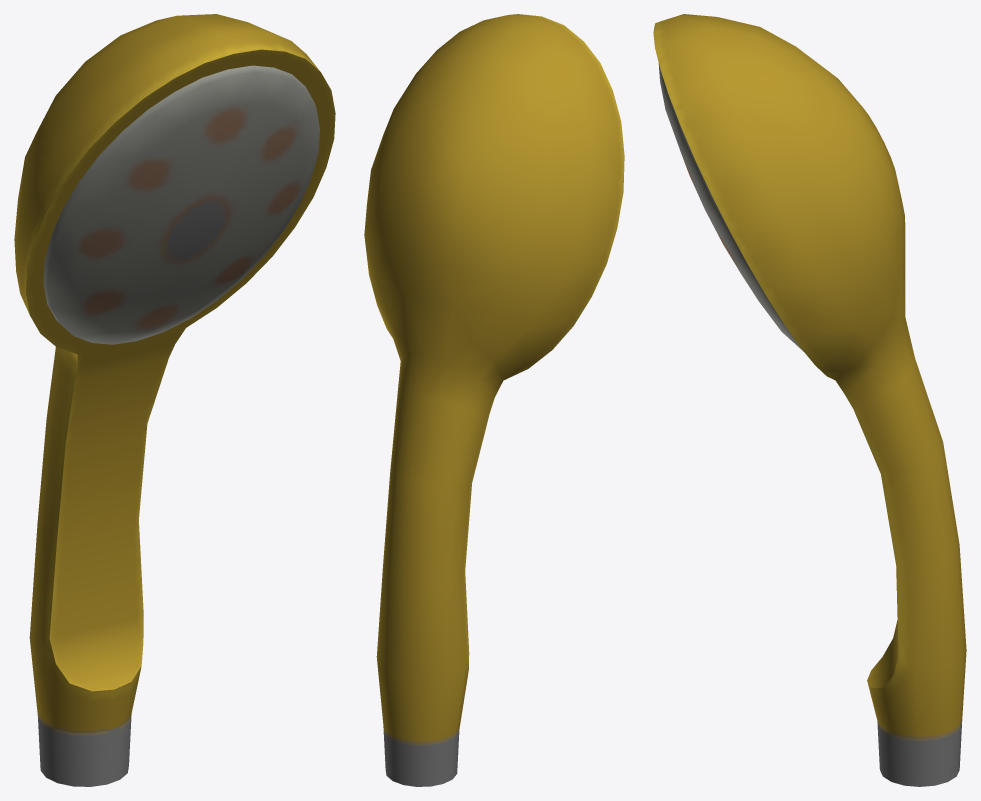
The model's file is pi_showerhead01.gltf.
3 renders of one model, left to right at view 1: azimuth 30°, elevation 25°; view 2: azimuth 150°, elevation 25°; view 3: azimuth 270°, elevation 25°, orthographic. The views are drawn at different scales.
Parts seen in each view (by area): view 1: showerhead_shape:pi_showerhead01_1; view 2: showerhead_shape:pi_showerhead01_1; view 3: showerhead_shape:pi_showerhead01_1.
Part boxes in pixels (<box>): showerhead_shape:pi_showerhead01_1: <box>14,14,335,786</box>; showerhead_shape:pi_showerhead01_1: <box>364,14,624,786</box>; showerhead_shape:pi_showerhead01_1: <box>653,14,966,786</box>.
Size of what is drawn, in the model's own units: 0.1424 by 0.3884 by 0.148.
Materials: 1 (1 with a texture image).
